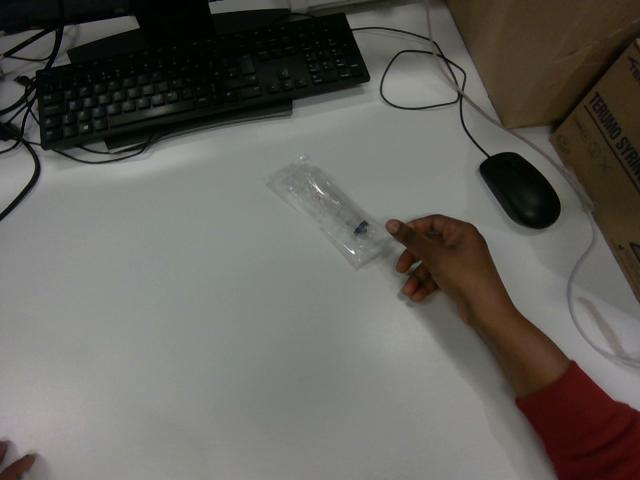syringe: (267, 157, 389, 268)
